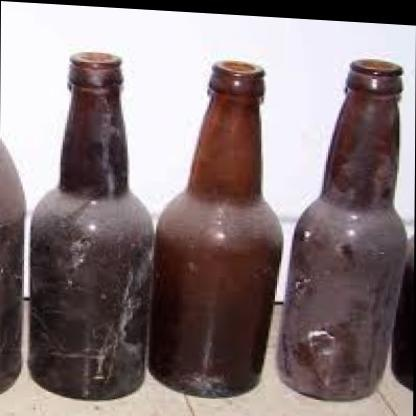trash: (150, 61, 282, 396), (278, 60, 406, 399), (30, 52, 152, 399)
